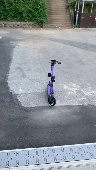beam: (44, 57, 61, 109)
